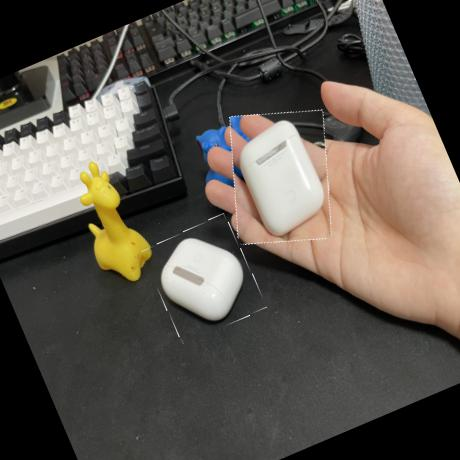airpod2: (203, 91, 360, 263)
airpod3: (140, 213, 266, 346)
